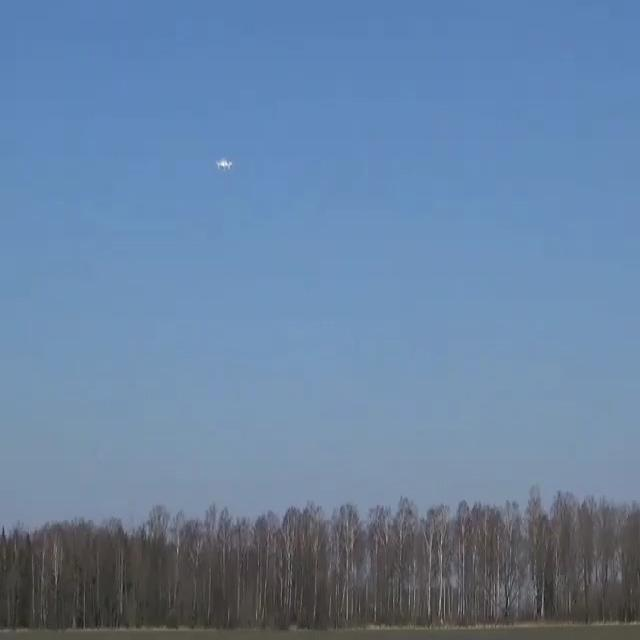drone: (215, 158, 232, 170)
